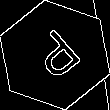P_SE: (23, 24, 87, 86)
